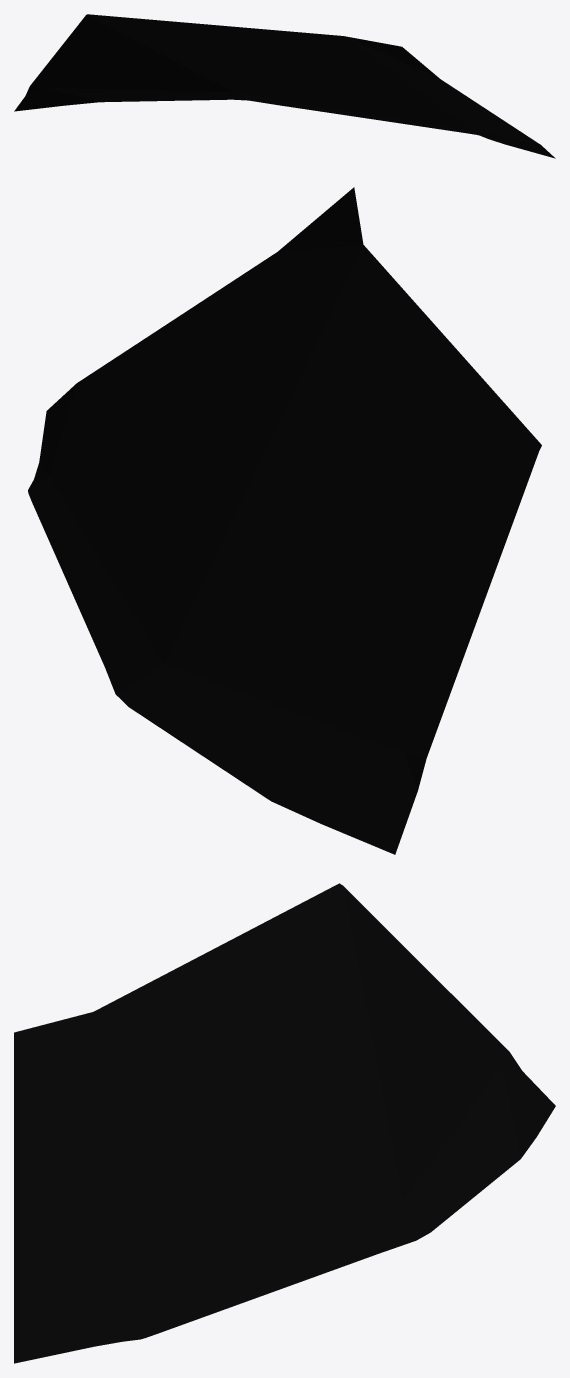
3 renders of one model, top to bottom at view 1: azimuth 30°, elevation 25°; view 2: azimuth 150°, elevation 25°; view 3: azimuth 270°, elevation 25°, orthographic. The views are drawn at different scales.
Bounding box in the file's own units: 13.8 × 5.56 × 12.27.
1 material, 1 textured.
